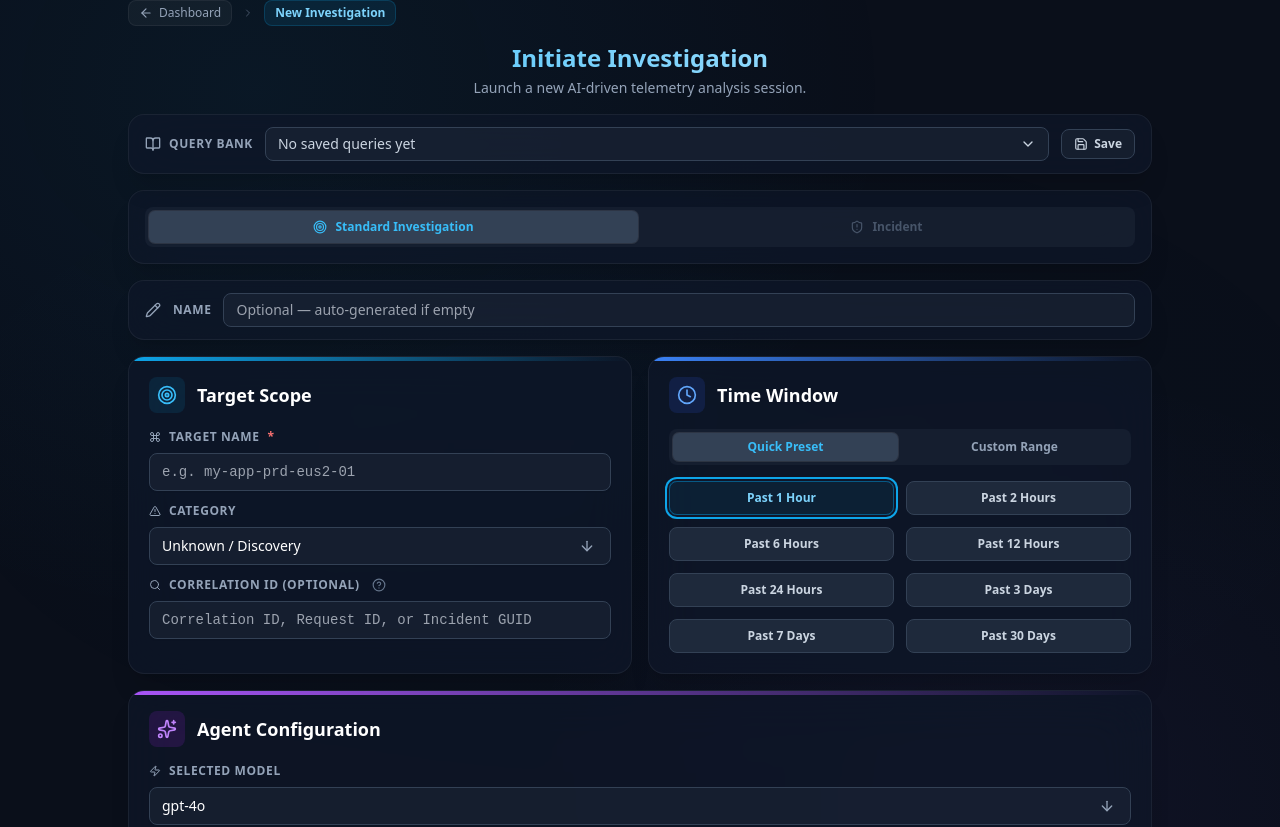
NewInvestigation › validates end time input
Expected: the heading "Initiate Investigation" is shown, [128,42,1152,74]
Click the button "Custom Range": (1014, 447) [902,433,1127,461]
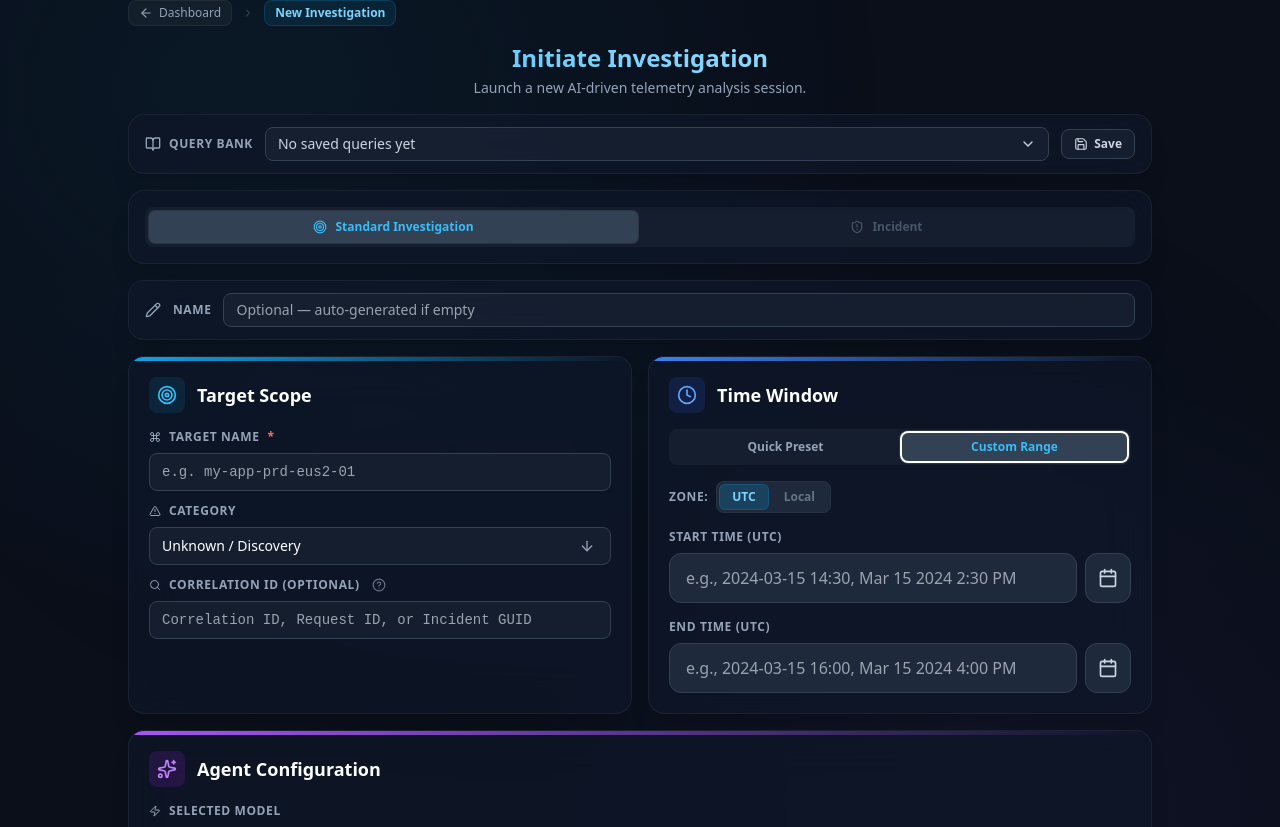
# Type into end time input (second placeholder)
In the field with placeholder "e.g., 2024-03-15 16:00, Mar 15 2024 4:00 PM": (873, 668) [669,643,1077,693], type "2024-03-15T16:00:00"
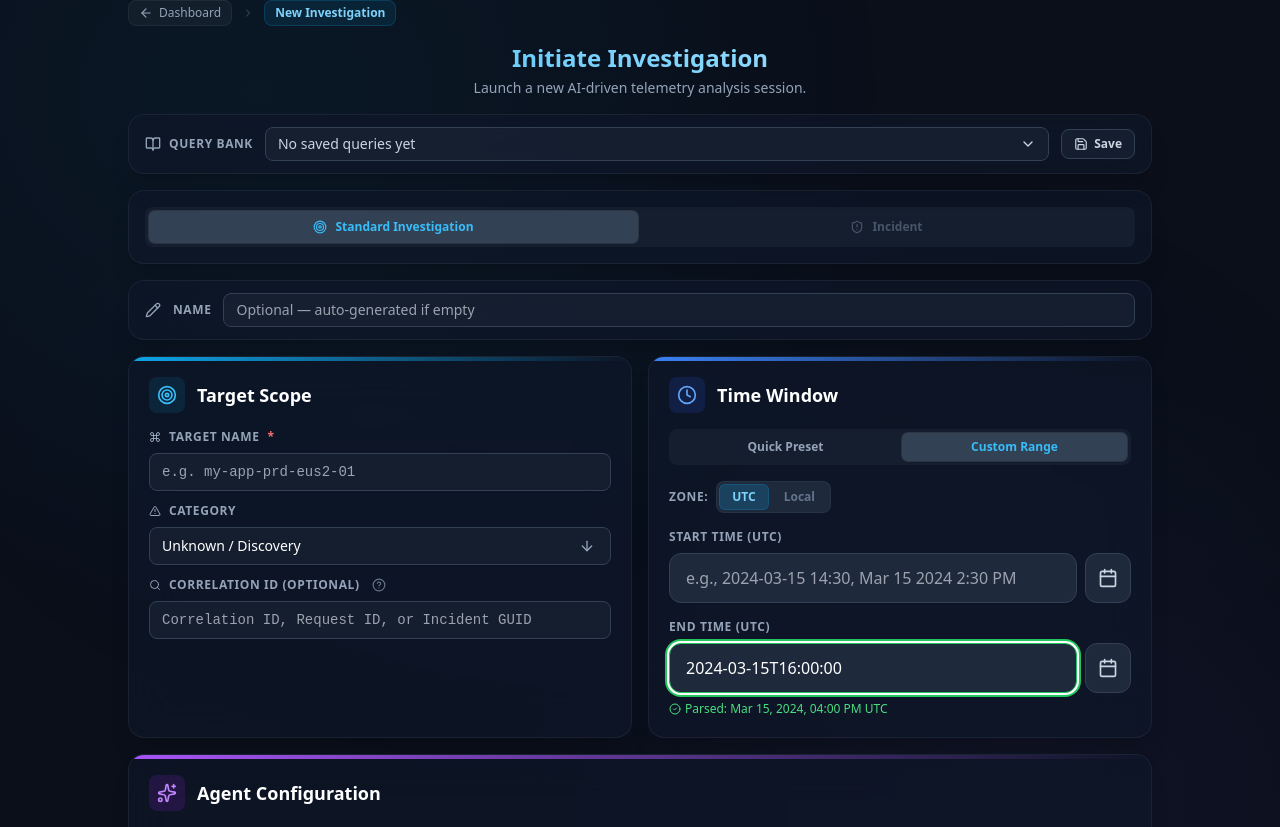
Now the text "Parsed: Mar 15, 2024, 04:00 PM UTC" is shown, box [669,700,888,717]
